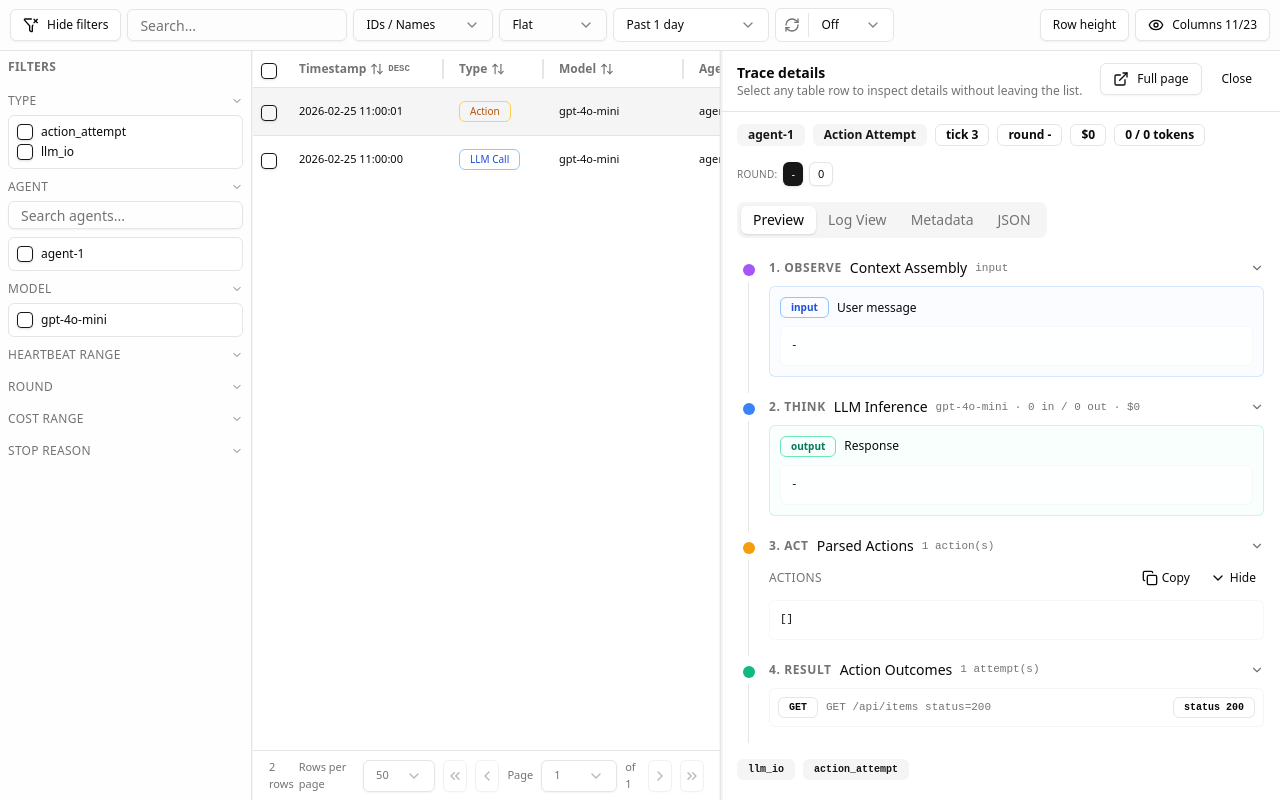
it: RunTracingPanel › opens side inspector on inspect route
The image size is (1280, 800).
Expected: the heading "Trace details" is shown, [737,63,825,82]
Click the tab "Log View" at (857, 220), box [816,206,899,234]
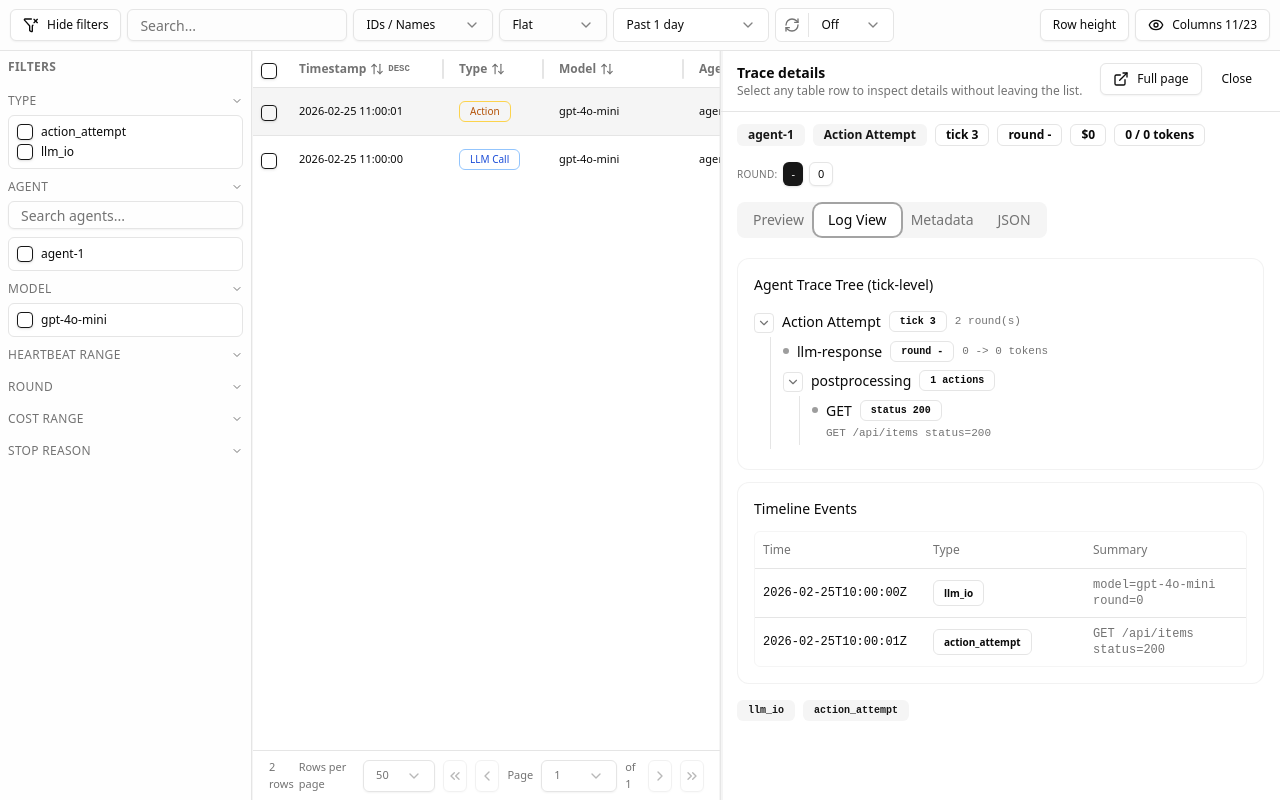
Result: the heading "Agent Trace Tree (tick-level)" is shown at [754,275,933,294]
Result: the heading "Timeline Events" is shown at [754,499,857,518]
